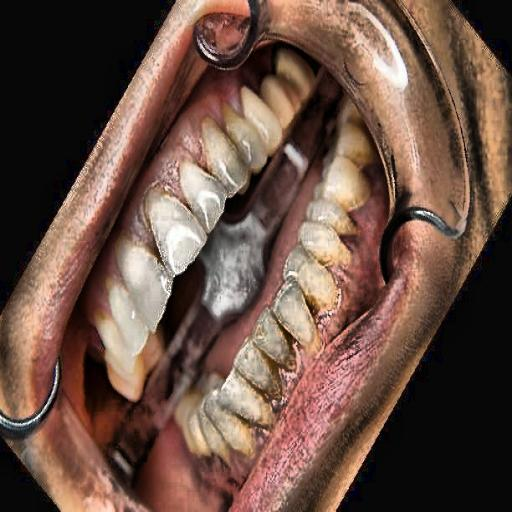Calculus: (240, 306, 318, 446), (326, 131, 376, 314)
